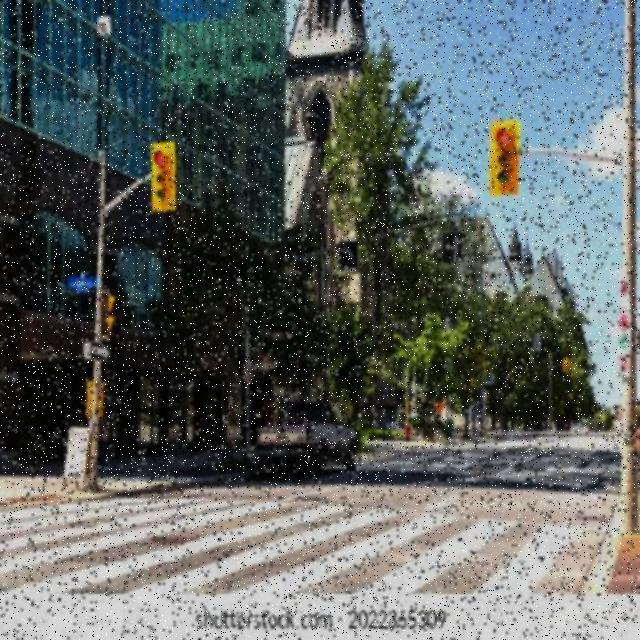Pedestrian crosswalk: (11, 492, 624, 600)
